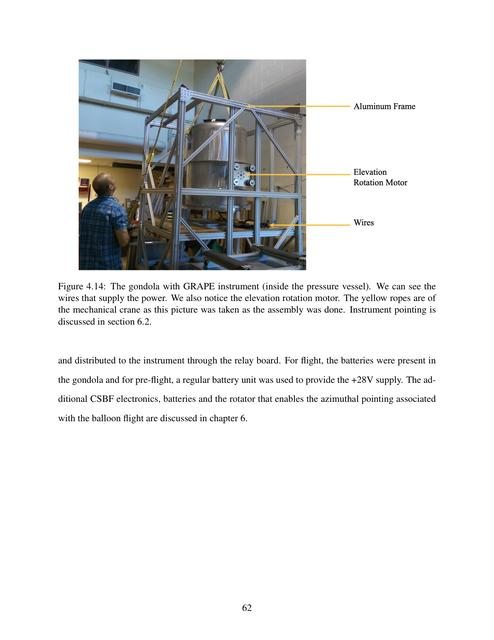box: (76, 55, 428, 276)
